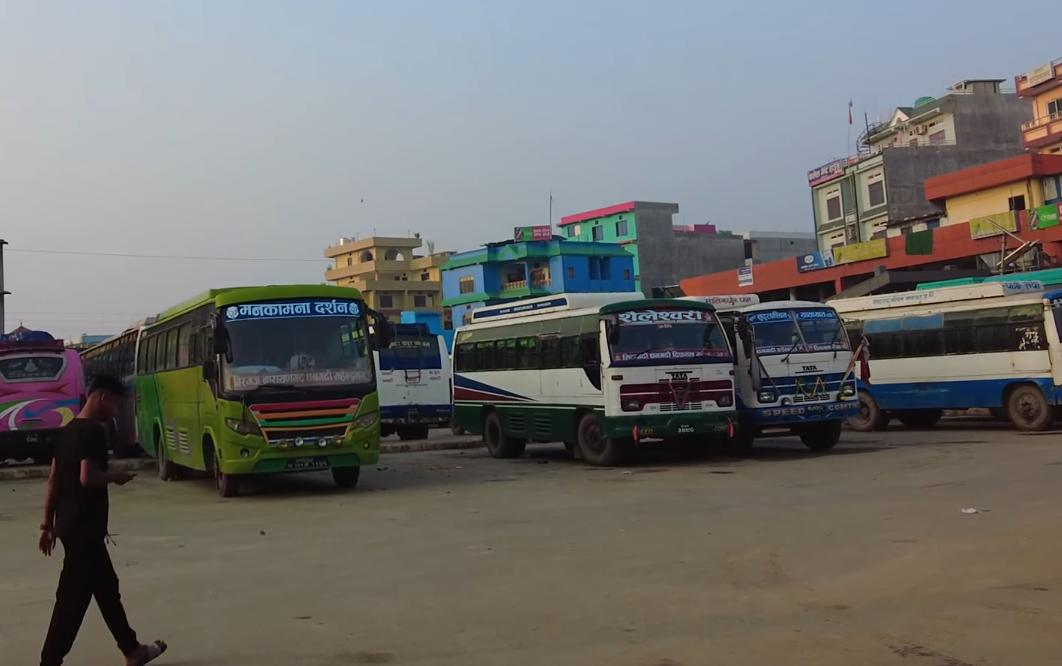bus: (120, 273, 387, 501), (440, 279, 738, 475), (712, 292, 873, 455)
